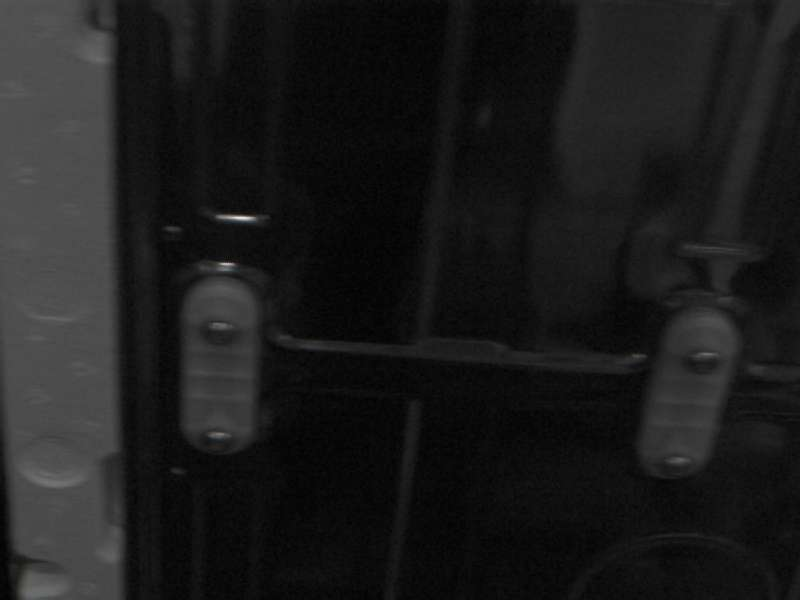screw: (203, 320, 239, 345), (201, 429, 235, 454), (685, 351, 721, 374), (659, 455, 694, 478)
